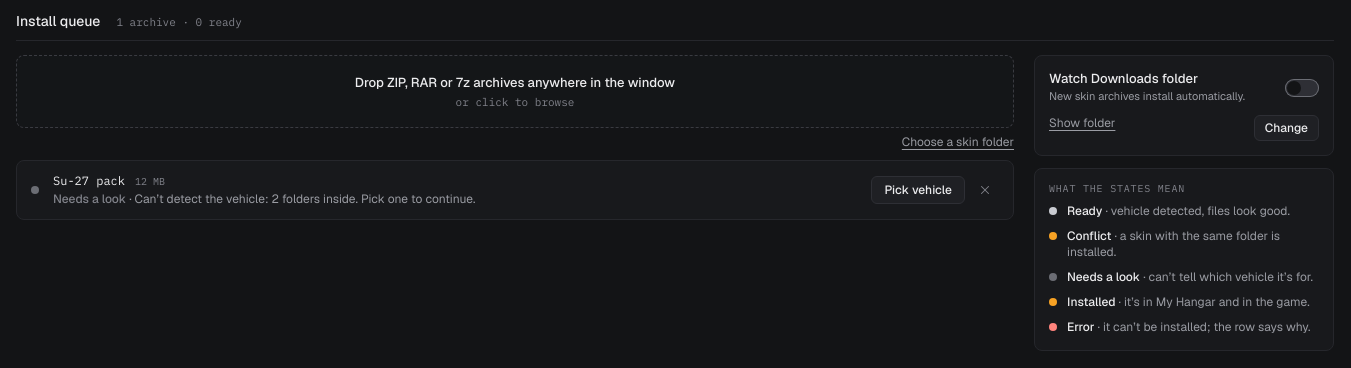
it: Install queue — installing › installs a needs-a-look item with the picked vehicle
Click the button "Pick vehicle".
click(918, 190)  # box [872,176,965,204]
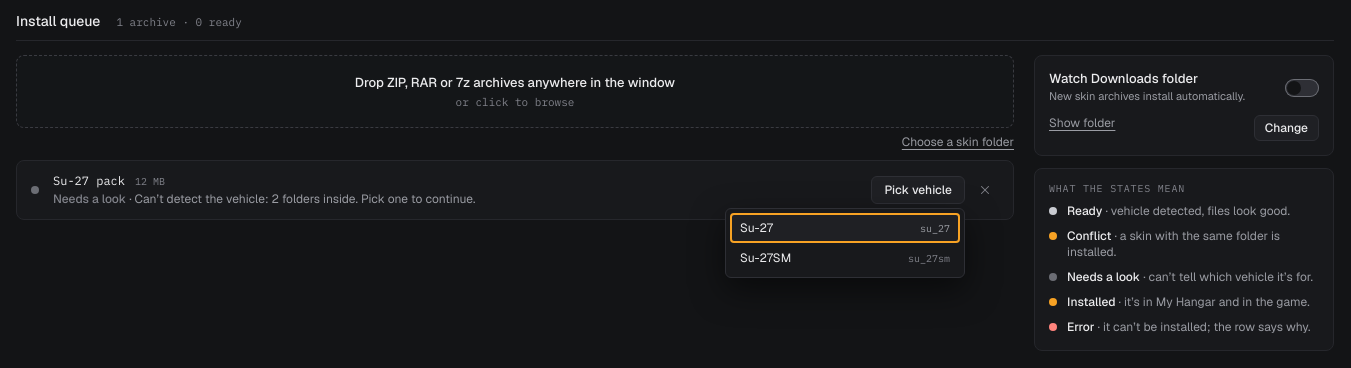
Check: the menu items read "Su-27su_27", "Su-27SMsu_27sm", in this order, box [730,213,960,243]; [730,243,960,273]
Press Arrowdown Enter
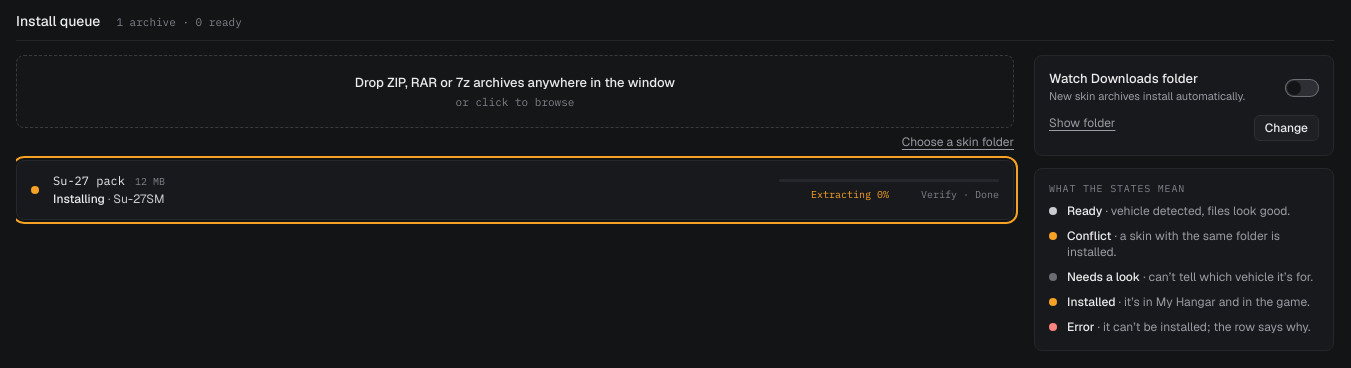
Check: the list item "Su-27 pack" shows "Installing · Su-27SM", box [16,160,1014,220]
